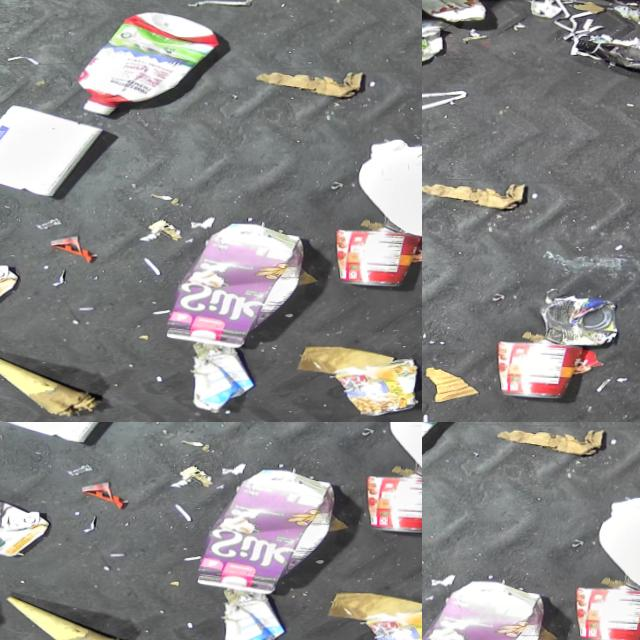can: (494, 338, 585, 399), (331, 227, 422, 287), (334, 355, 420, 417), (562, 580, 640, 640), (537, 293, 622, 346), (362, 473, 422, 533), (364, 601, 422, 640), (422, 0, 490, 21)
milk_jug: (354, 135, 422, 243), (592, 489, 640, 602)
non_white_jug: (167, 222, 310, 348), (198, 468, 341, 594), (75, 10, 220, 117), (0, 485, 55, 555)
